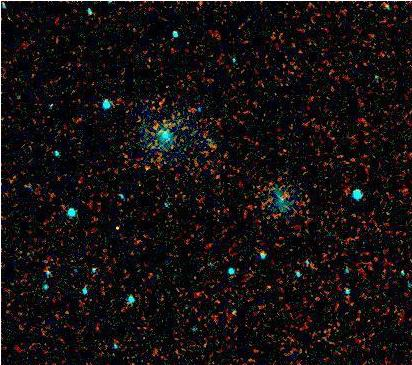star: (100, 215, 130, 245)
